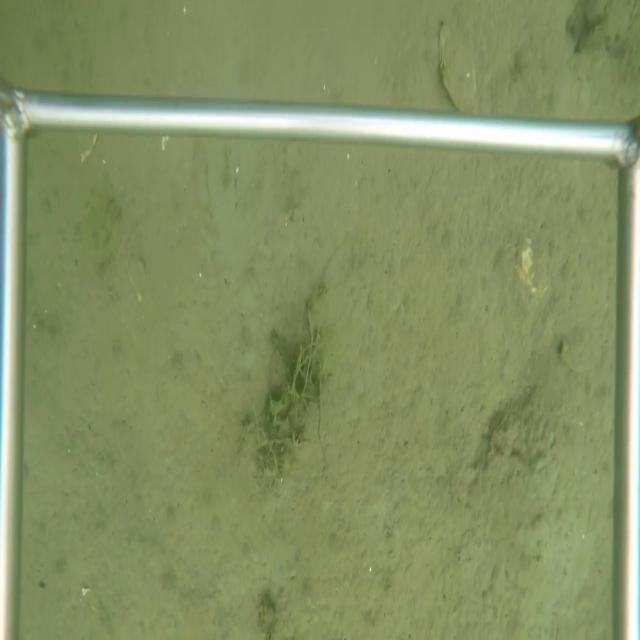Oyster-Indeterminate: (434, 18, 477, 116)
